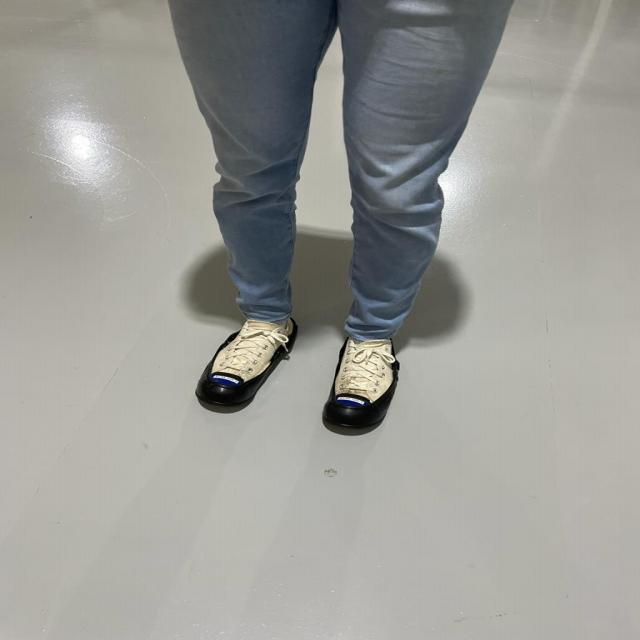shoes: (194, 312, 300, 423), (316, 333, 409, 440)
